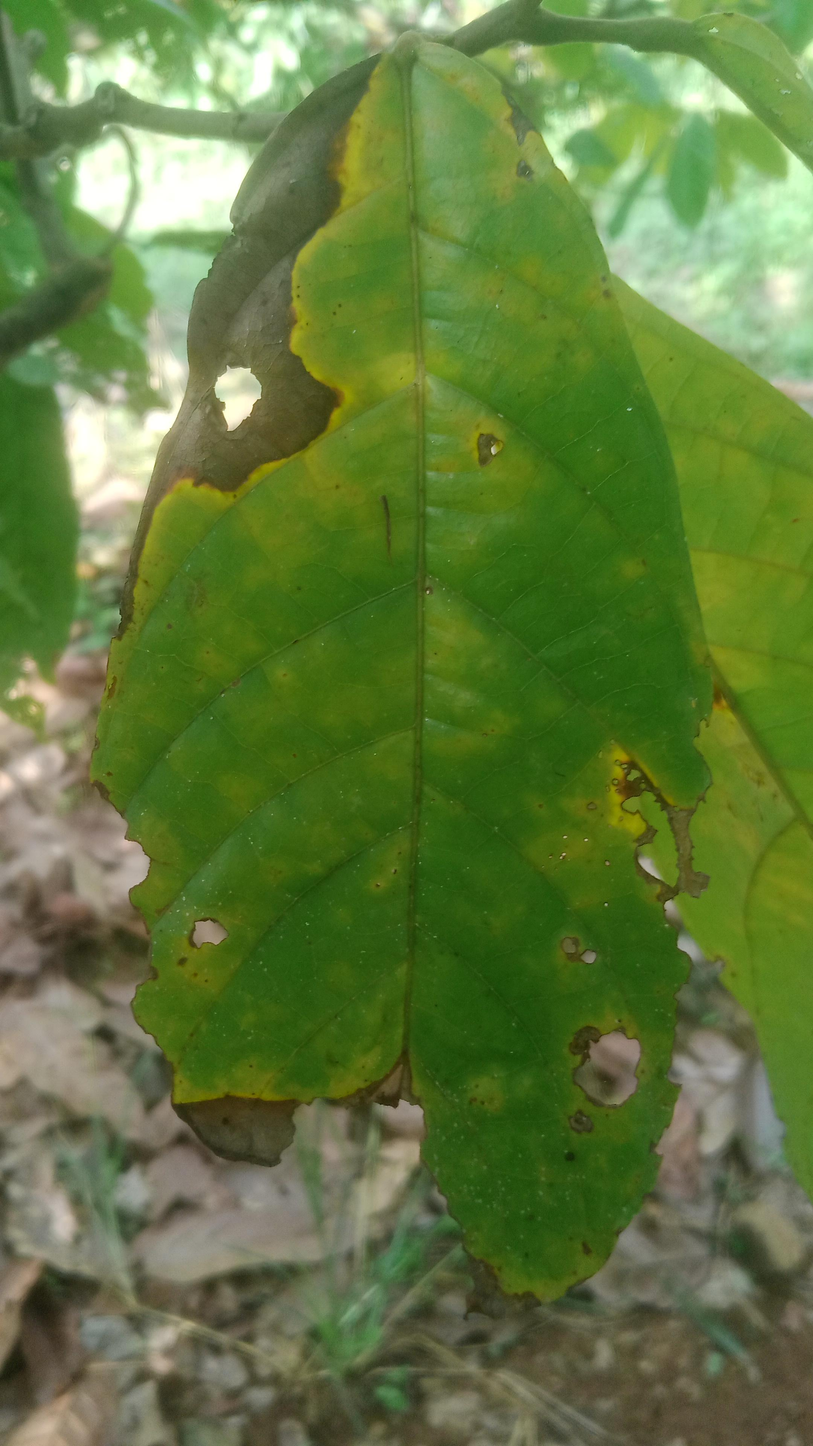deficiencia_potasio: (92, 31, 712, 1325)
